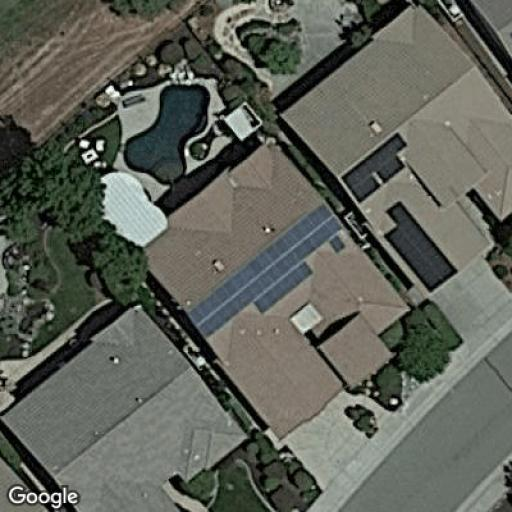solar-panel: (382, 200, 459, 295), (243, 236, 314, 314), (341, 132, 408, 205), (188, 269, 252, 339), (283, 204, 348, 262)
